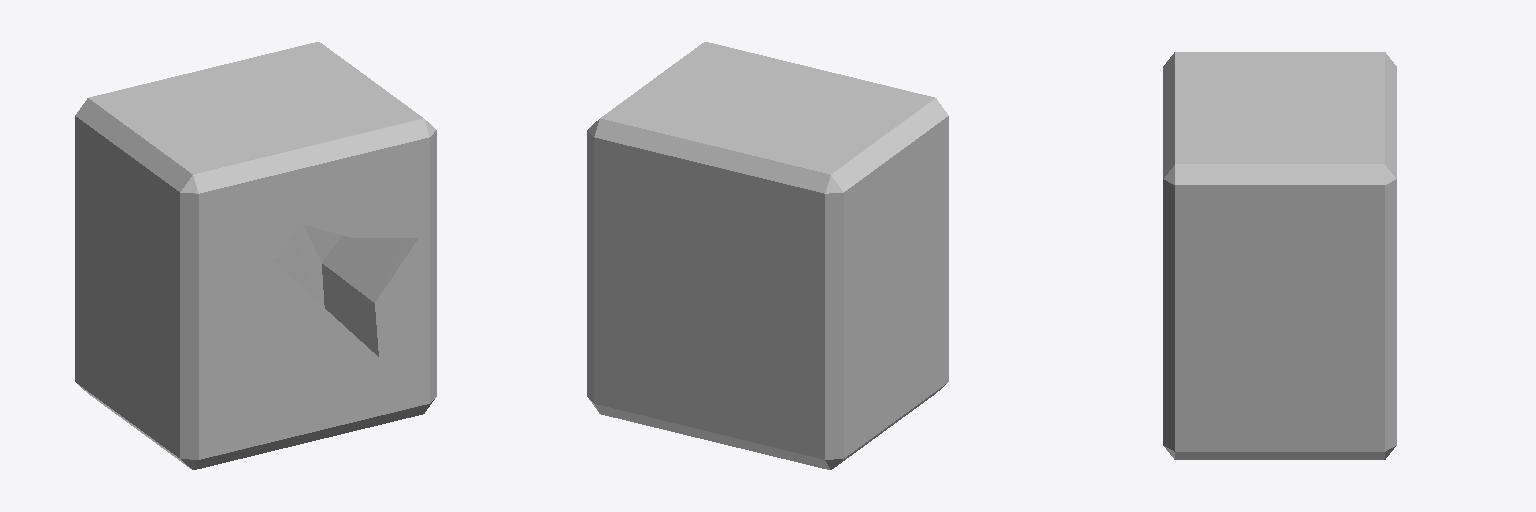
File: Star Rock.obj
3 renders of one model, left to right at view 1: azimuth 30°, elevation 25°; view 2: azimuth 150°, elevation 25°; view 3: azimuth 270°, elevation 25°, orthographic.
Visible parts, largest first — view 1: Cube.008_Cube.009; view 2: Cube.008_Cube.009; view 3: Cube.008_Cube.009.
Part boxes in pixels (x1,y1,x2,y2): Cube.008_Cube.009: (75,42,436,469); Cube.008_Cube.009: (587,42,948,469); Cube.008_Cube.009: (1163,52,1396,459).
Size of the model in its own units: 1.83 by 2.02 by 1.44.